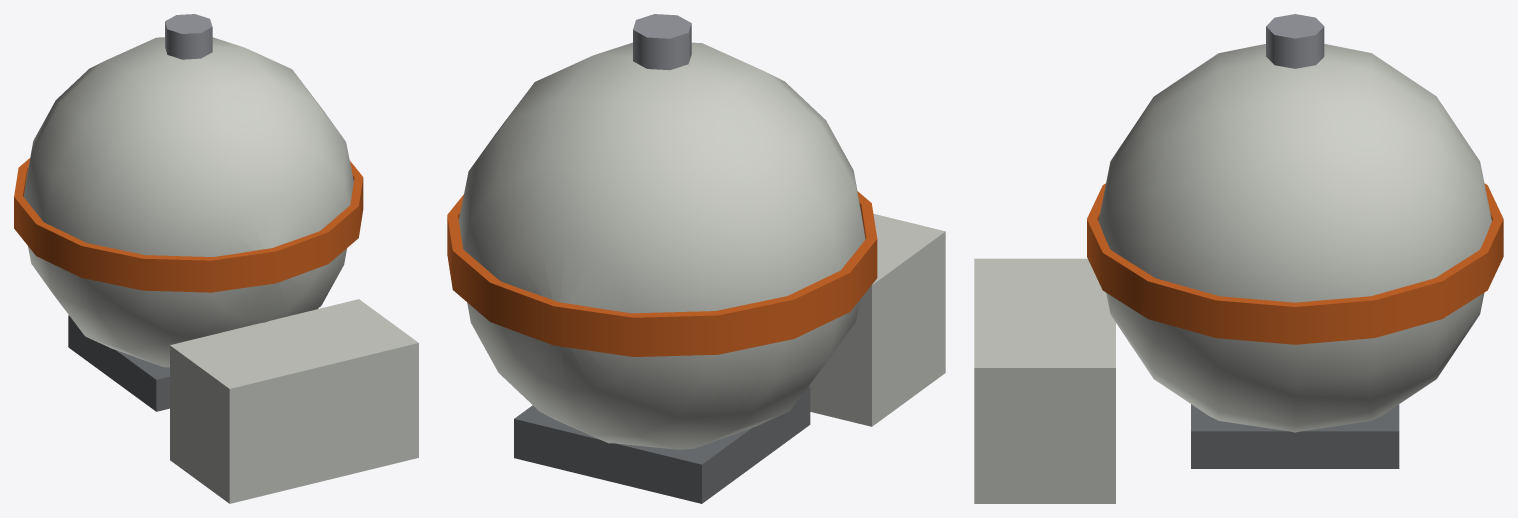
The picture shows the model from 3 angles, left to right: view 1: azimuth 30°, elevation 25°; view 2: azimuth 150°, elevation 25°; view 3: azimuth 270°, elevation 25°; orthographic projection. The views are drawn at different scales.
Parts seen in each view (by area): view 1: o4_o2; view 2: o4_o2; view 3: o4_o2.
Part boxes in pixels (x1,y1,x2,y2): o4_o2: [14, 14, 418, 503]; o4_o2: [447, 14, 945, 503]; o4_o2: [974, 14, 1503, 503].
Bounding box in the file's own units: 1 × 1.12 × 1.27.
